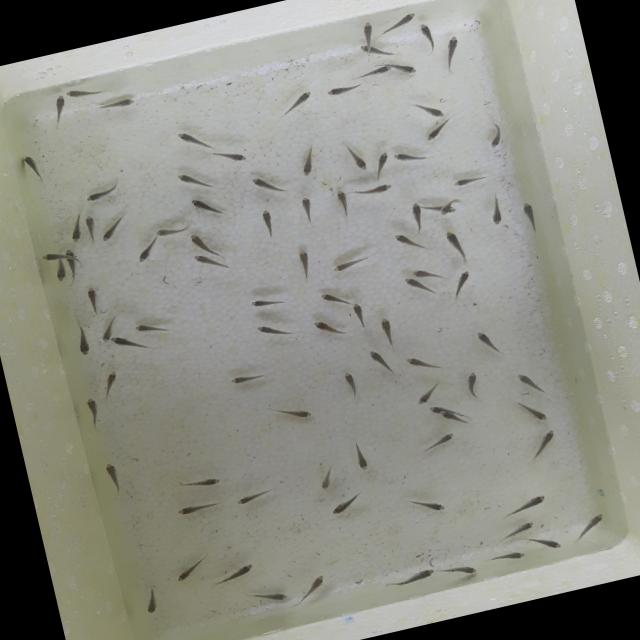fingerling: (518, 426, 563, 467), (568, 506, 612, 544), (210, 558, 260, 591), (186, 189, 230, 226), (498, 490, 550, 521), (410, 427, 460, 459), (172, 164, 219, 198), (382, 563, 441, 590), (248, 168, 294, 202), (240, 580, 292, 610), (292, 569, 334, 606), (266, 397, 316, 428), (98, 456, 130, 504), (172, 468, 226, 496), (16, 147, 51, 189), (438, 32, 471, 76), (168, 551, 212, 584), (274, 88, 318, 120), (512, 394, 550, 431), (471, 324, 508, 362), (170, 494, 224, 520), (173, 124, 216, 156), (327, 248, 376, 276), (522, 526, 564, 558), (400, 347, 446, 376), (81, 177, 130, 204), (338, 136, 371, 176), (404, 490, 448, 520), (390, 144, 437, 172), (62, 78, 112, 104), (444, 265, 479, 302), (136, 578, 170, 616), (362, 343, 394, 383), (252, 316, 296, 345), (440, 224, 471, 265), (209, 142, 251, 172), (344, 435, 376, 474), (254, 203, 283, 246), (92, 91, 143, 115), (308, 312, 348, 342), (514, 197, 544, 237), (326, 490, 368, 518), (449, 168, 498, 192), (344, 180, 396, 202), (292, 140, 322, 178), (336, 365, 366, 403), (96, 210, 130, 243), (80, 392, 108, 432), (408, 95, 446, 124), (291, 244, 320, 282), (226, 366, 270, 391), (496, 518, 538, 544), (478, 118, 511, 151), (70, 318, 97, 358), (94, 366, 124, 402), (440, 556, 483, 581), (458, 366, 486, 404), (482, 190, 510, 228), (246, 290, 290, 314), (408, 379, 444, 408), (486, 544, 529, 568), (230, 485, 274, 508), (132, 316, 174, 340), (414, 18, 439, 58), (130, 235, 162, 266), (46, 92, 74, 126), (405, 198, 430, 236), (153, 220, 196, 242), (324, 78, 364, 101), (316, 285, 350, 312), (370, 148, 396, 183), (512, 366, 542, 396), (384, 7, 421, 31), (420, 118, 454, 144), (78, 284, 104, 317), (376, 314, 399, 351), (312, 463, 339, 494), (346, 64, 392, 82), (63, 212, 88, 245), (109, 331, 142, 356), (80, 211, 104, 245), (296, 193, 319, 228), (348, 298, 370, 334), (391, 227, 418, 256), (332, 186, 352, 222), (354, 17, 380, 44), (188, 228, 211, 254), (190, 250, 214, 272), (50, 260, 70, 284), (396, 60, 419, 77), (36, 248, 59, 263), (410, 265, 430, 279), (402, 275, 417, 290), (438, 407, 454, 421), (424, 402, 440, 415), (99, 330, 112, 343), (358, 43, 370, 54), (438, 206, 450, 217)
